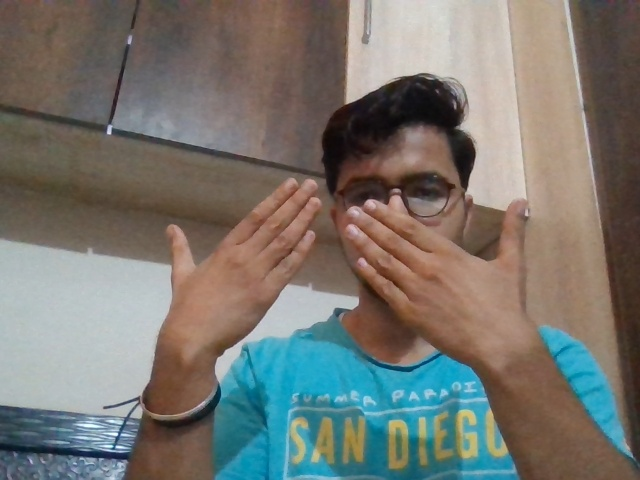thankyou: (152, 191, 550, 388)
